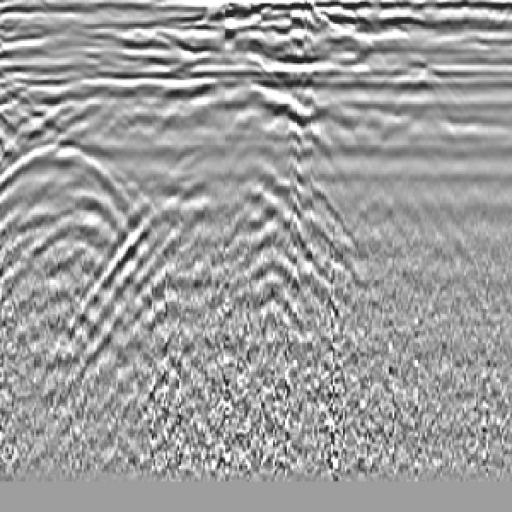metalic: (142, 45, 352, 339)
non-metallic: (1, 90, 151, 347)
